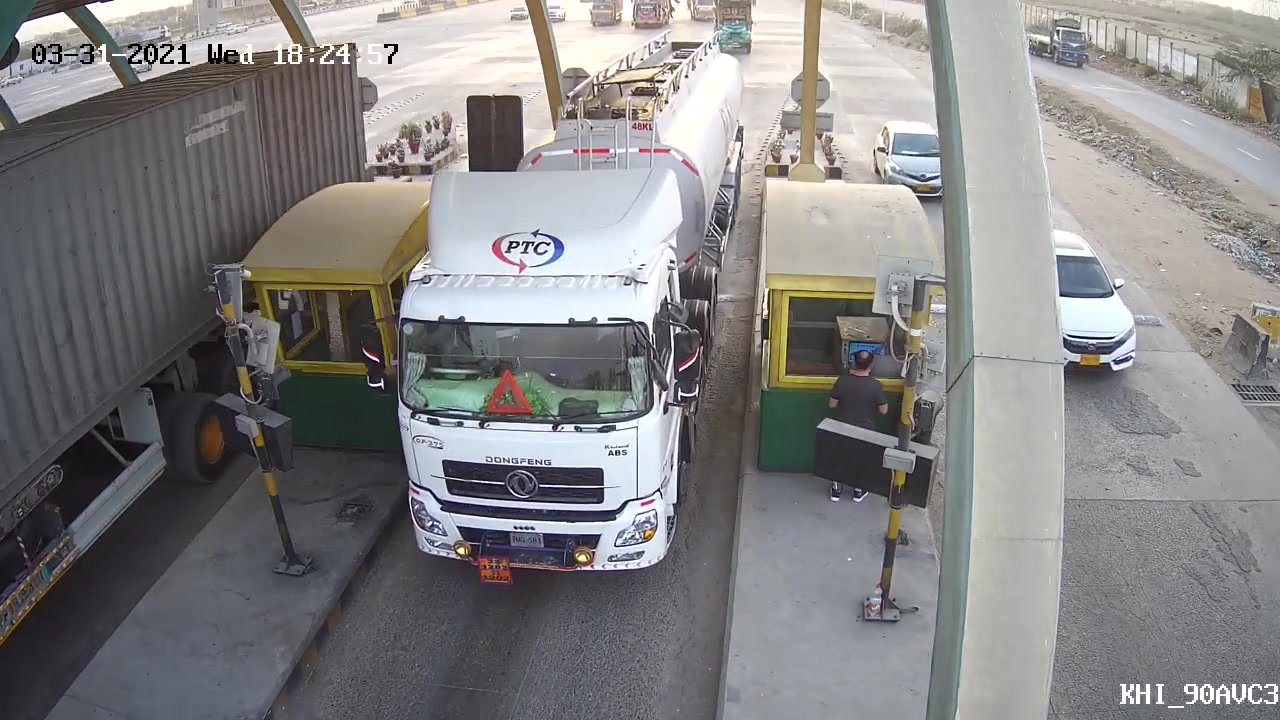F6: (389, 41, 751, 585)
